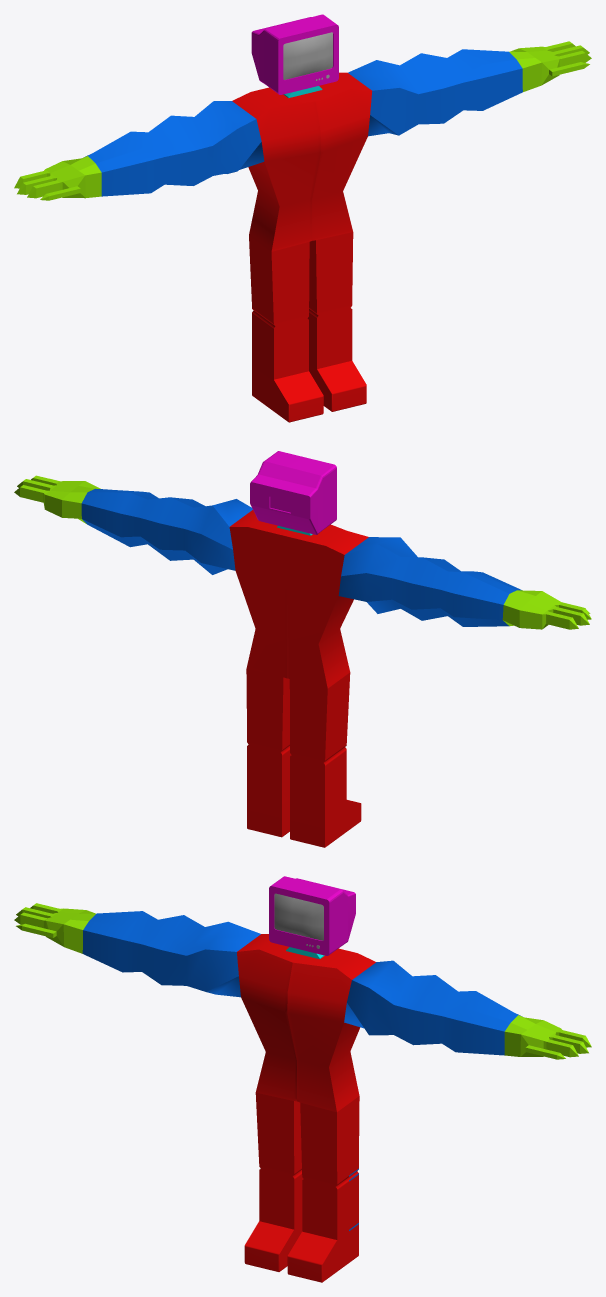
File: BradMesh.fbx
The picture shows the model from 3 angles, top to bottom: view 1: azimuth 30°, elevation 25°; view 2: azimuth 150°, elevation 25°; view 3: azimuth 330°, elevation 25°; orthographic projection.
Visible parts, largest first — view 1: polySurface1, polySurface5, Monster_HeadBase_low, polySurface3, polySurface4, Monster_Screen_low; view 2: polySurface1, polySurface5, Monster_HeadBase_low, polySurface3, polySurface4; view 3: polySurface1, polySurface5, Monster_HeadBase_low, polySurface4, polySurface3, Monster_Screen_low.
Boxes of the visible parts, x1,y1,x2,y2 form: polySurface1: (232, 72, 372, 422); polySurface5: (85, 49, 522, 196); Monster_HeadBase_low: (251, 14, 338, 94); polySurface3: (14, 156, 101, 200); polySurface4: (509, 41, 591, 91); Monster_Screen_low: (283, 32, 332, 79); polySurface1: (229, 510, 368, 847); polySurface5: (81, 488, 521, 626); Monster_HeadBase_low: (250, 451, 336, 534); polySurface3: (502, 590, 591, 629); polySurface4: (14, 475, 100, 523); polySurface1: (237, 934, 375, 1282); polySurface5: (82, 911, 522, 1230); Monster_HeadBase_low: (269, 876, 355, 955); polySurface4: (504, 1015, 591, 1059); polySurface3: (14, 903, 95, 953); Monster_Screen_low: (274, 893, 323, 940).
Bounding box in the file's own units: 331 × 203 × 44.14.
